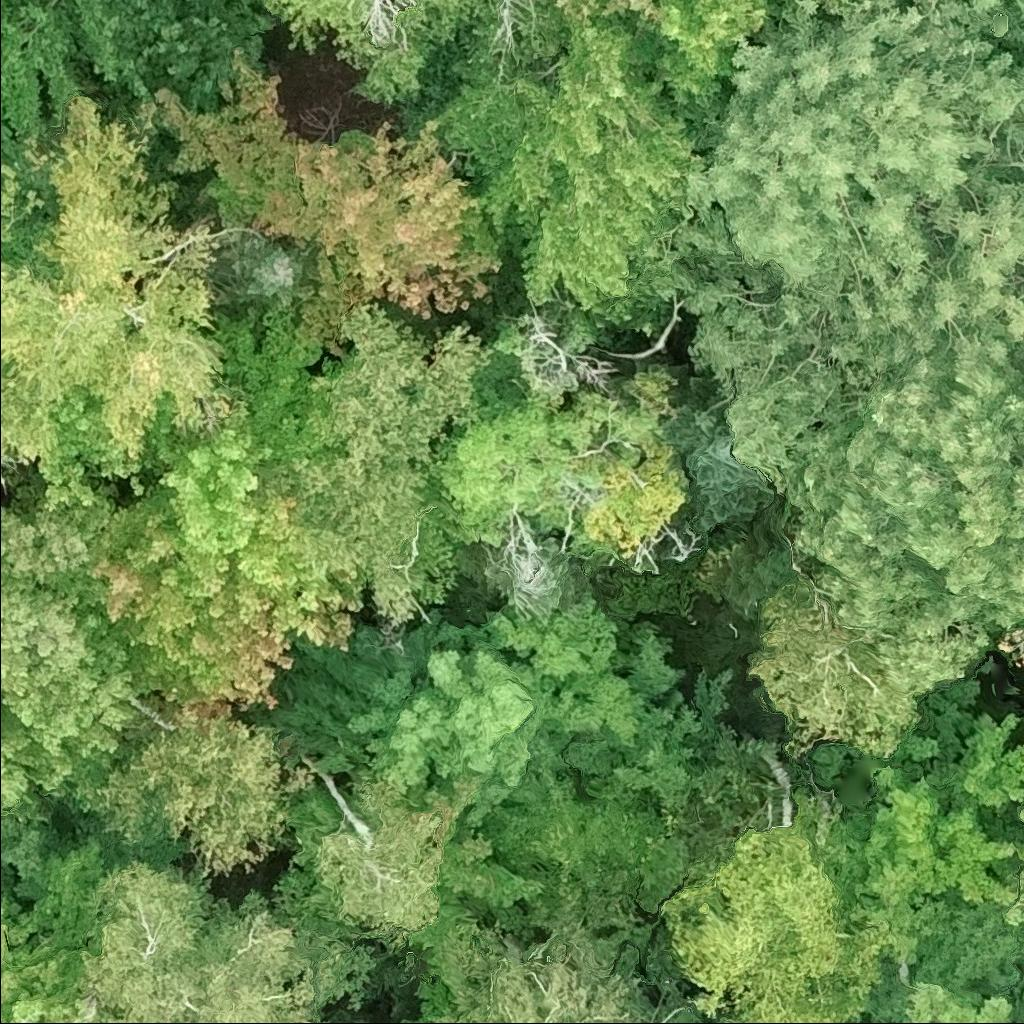crown: (661, 0, 1023, 404), (255, 594, 704, 826), (154, 54, 503, 319), (85, 399, 374, 714), (780, 333, 1023, 700), (0, 92, 234, 467), (428, 12, 695, 313), (258, 303, 498, 624), (835, 696, 1023, 984), (660, 795, 887, 1023), (0, 490, 151, 824), (78, 860, 377, 1023), (72, 704, 322, 880), (398, 918, 734, 1023), (681, 277, 847, 485), (747, 573, 922, 759), (427, 387, 623, 552), (294, 782, 454, 936), (660, 373, 774, 533), (639, 0, 768, 115), (32, 393, 152, 514), (0, 888, 104, 1023), (204, 227, 320, 317), (480, 540, 594, 629), (903, 982, 1017, 1023), (0, 159, 47, 250), (553, 0, 658, 31), (362, 0, 414, 49), (996, 866, 1023, 947), (823, 0, 874, 22), (767, 0, 794, 8), (1005, 805, 1023, 815)
